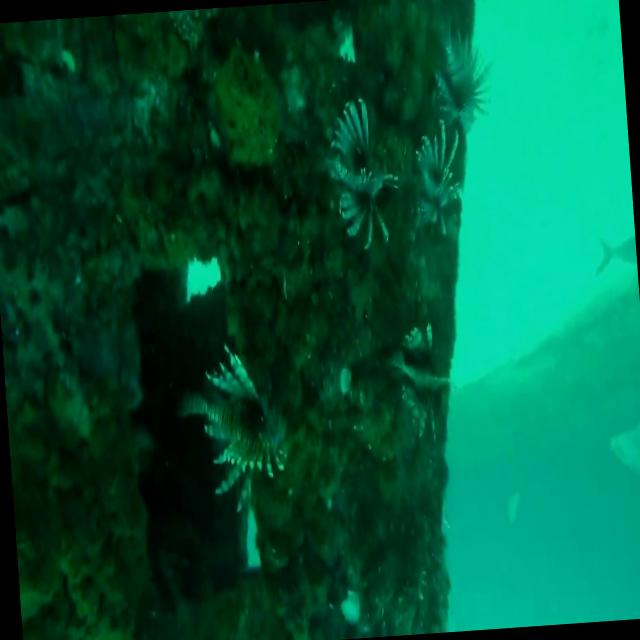Aslan Baligi: (168, 340, 298, 504), (316, 84, 402, 258), (377, 317, 457, 446), (406, 117, 470, 247)
